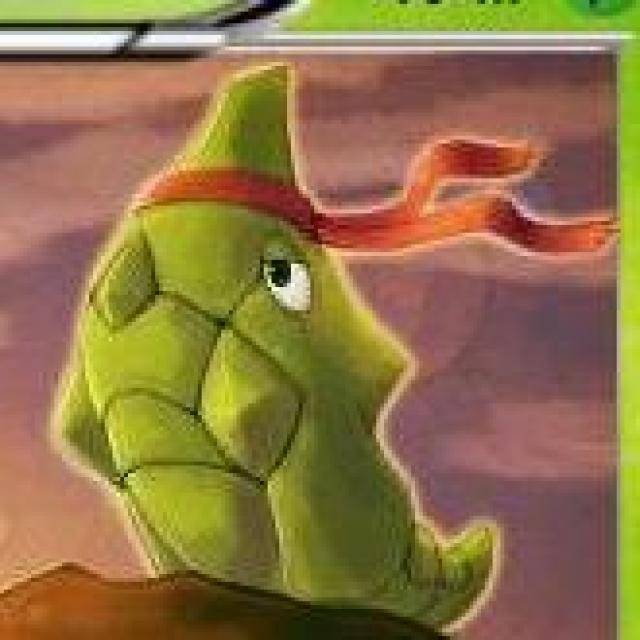Metapod: (55, 65, 512, 632)
